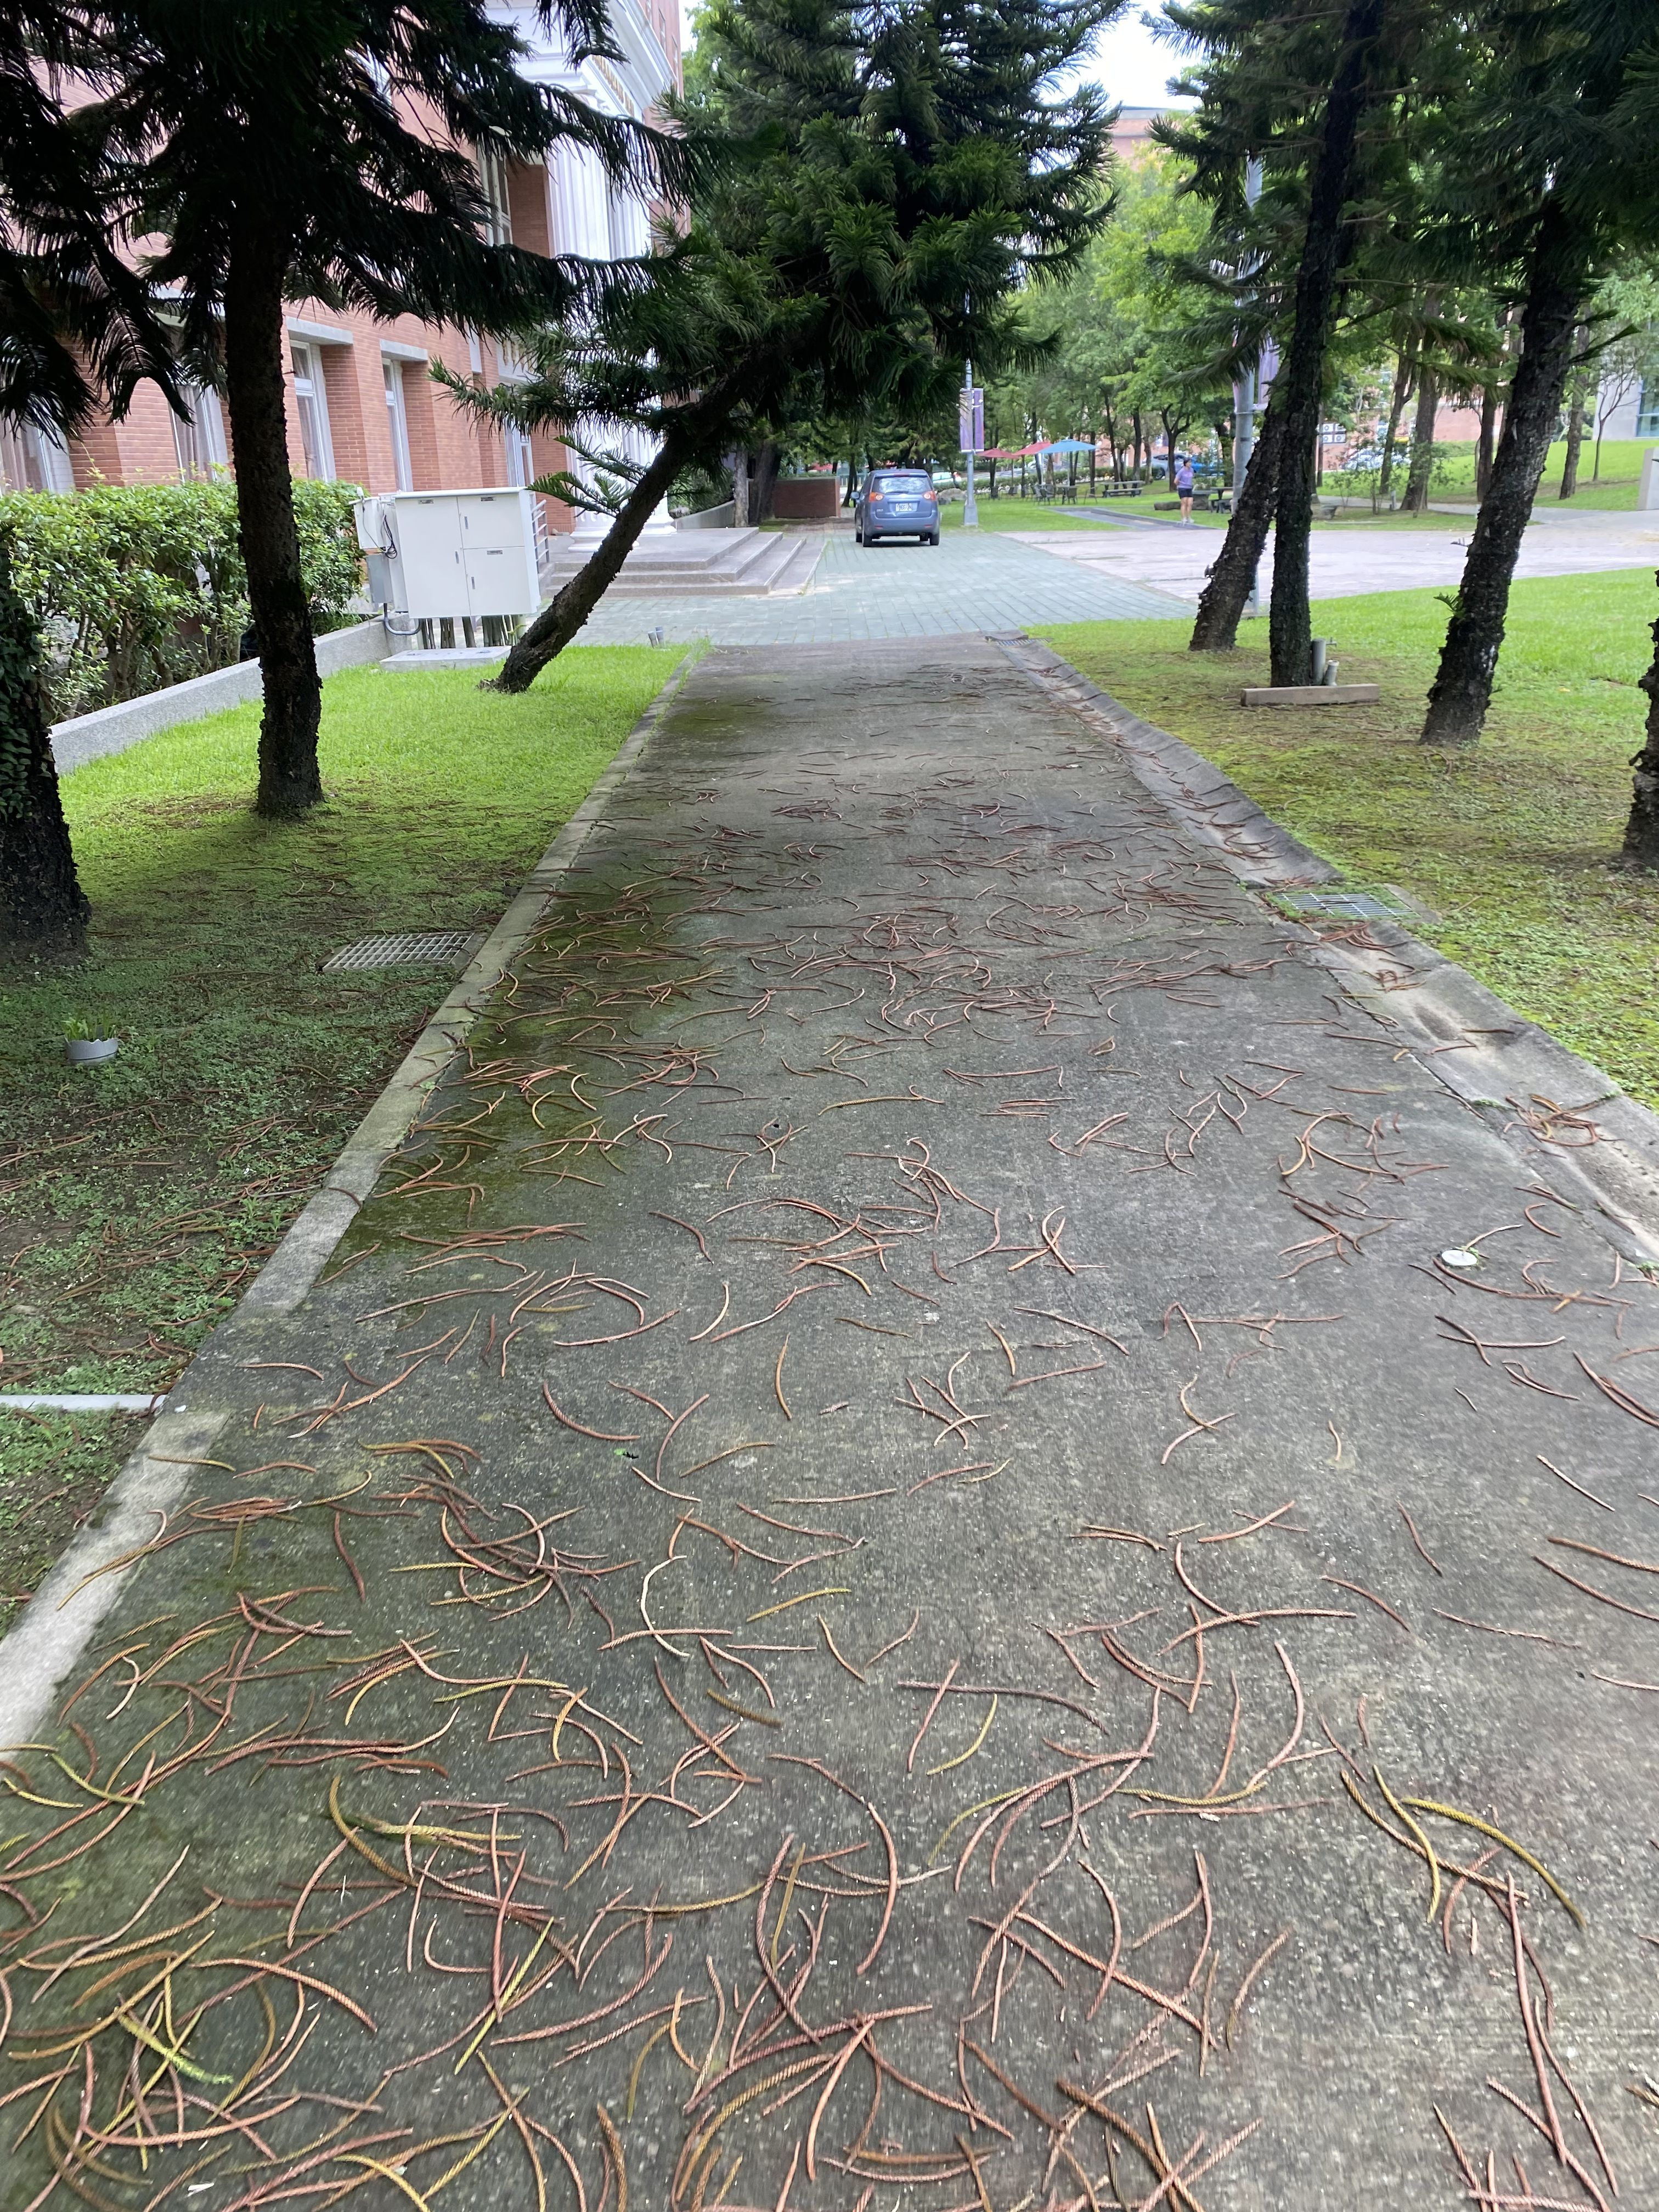0: (721, 486, 1079, 698)
sidewalk: (272, 634, 1659, 2212)
